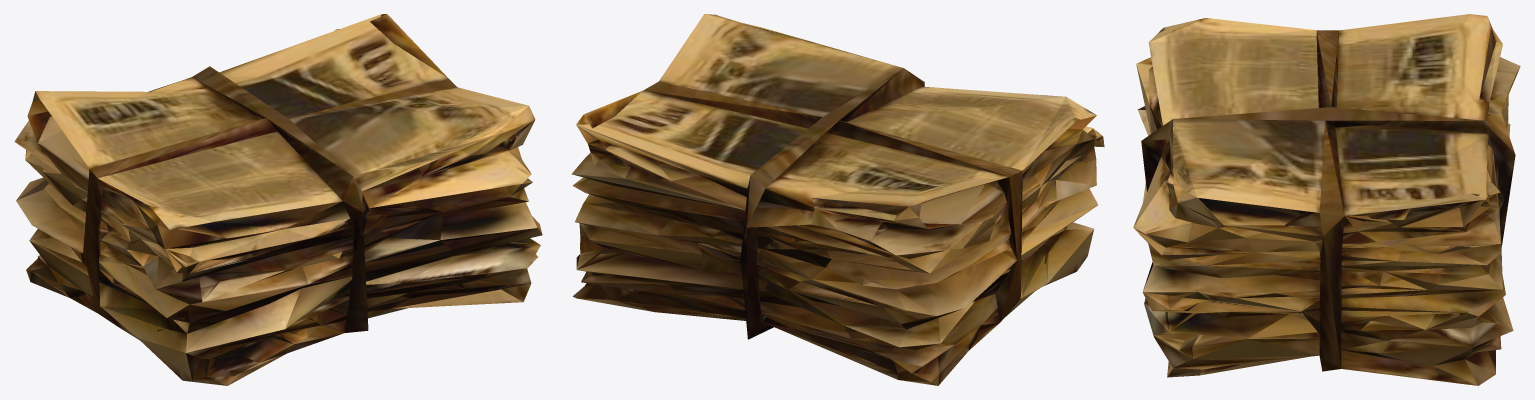
File: papers_lod2.glb
The picture shows the model from 3 angles, left to right: view 1: azimuth 30°, elevation 25°; view 2: azimuth 150°, elevation 25°; view 3: azimuth 270°, elevation 25°; orthographic projection. The views are drawn at different scales.
Visible parts, largest first — view 1: material; view 2: material; view 3: material.
Boxes of the visible parts, x1,y1,x2,y2 form: material: (14, 14, 542, 385); material: (571, 14, 1104, 385); material: (1133, 14, 1520, 385).
Size of the model in its own units: 2.07 by 0.9581 by 1.73.
Materials: 1 (1 with a texture image).
